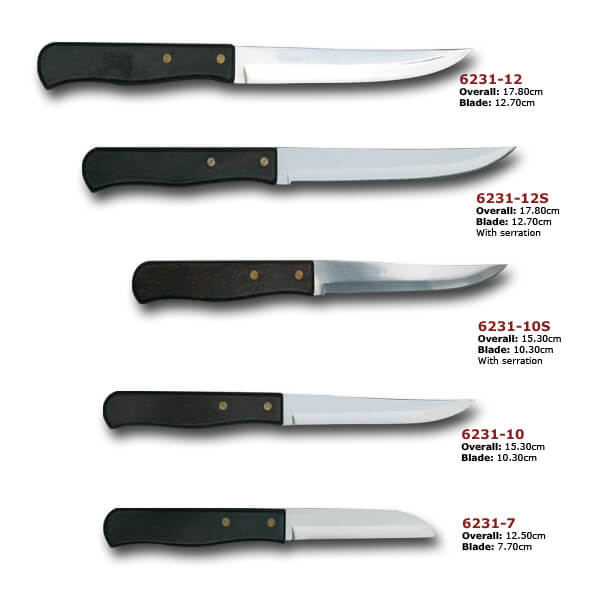knife: (36, 42, 473, 91), (79, 144, 519, 192), (129, 257, 508, 305), (102, 391, 476, 432), (105, 507, 438, 548)
